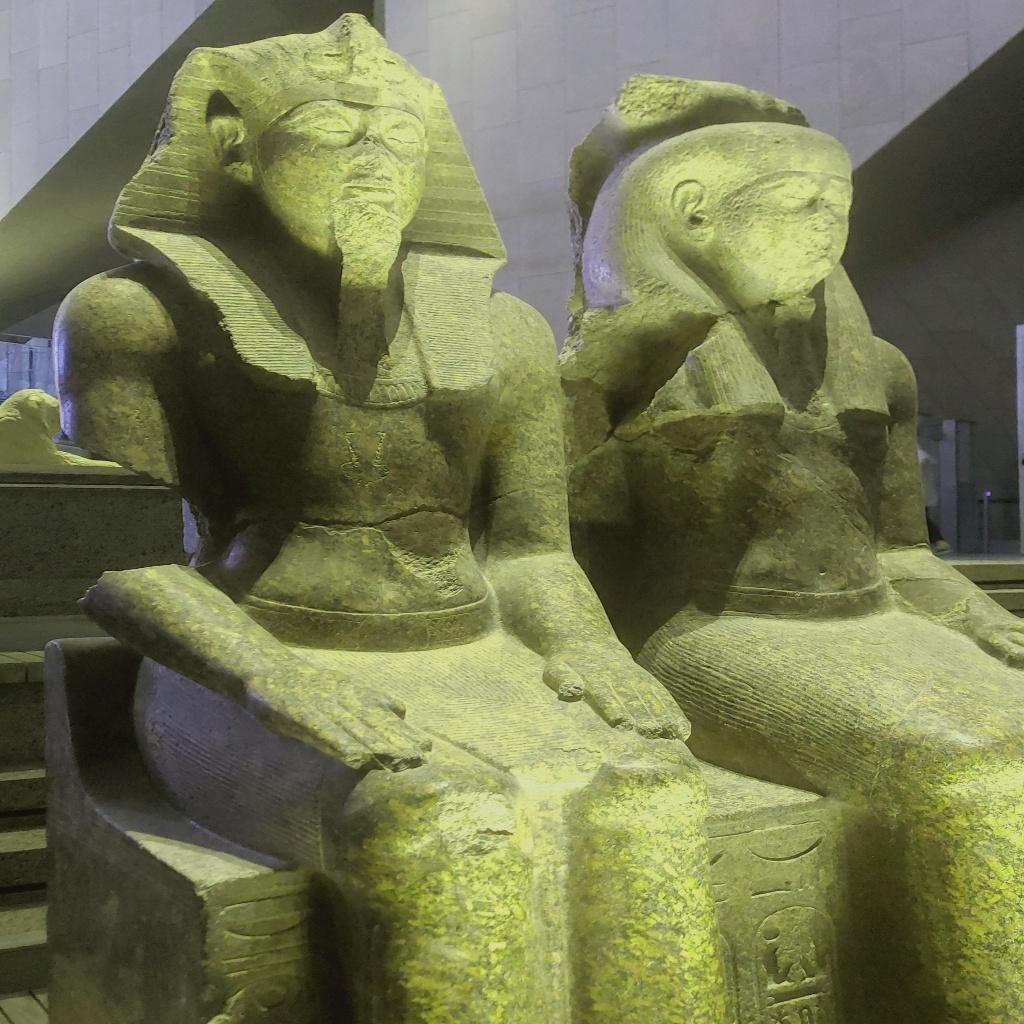Seated Statue of Ramesses II and God Ptah: (57, 37, 1010, 1021)
